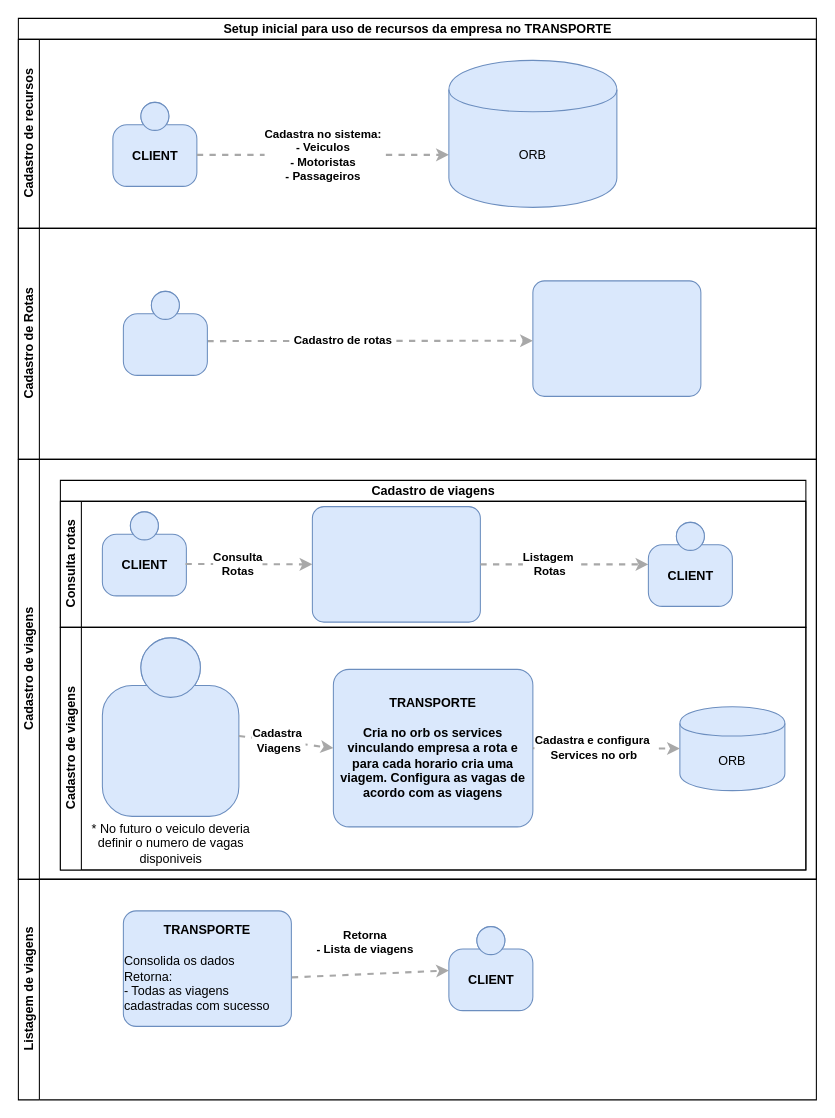
Image size: 835x1118. Some labels were removed from this diagram. Here are the shapes that lost their labels. From the top down, the centre of each, then its label:
the point at 164,332: BONITOUR
the point at 616,338: TRANSPORTE Salva os dados de cada rota e disponibiliza no serviço
the point at 395,564: TRANSPORTE Consulta na base de dados todas as rotas cadastradas
the point at 170,726: CLIENT Seleciona a rota Define: - Veiculo * - Motorista - Data -Horario
